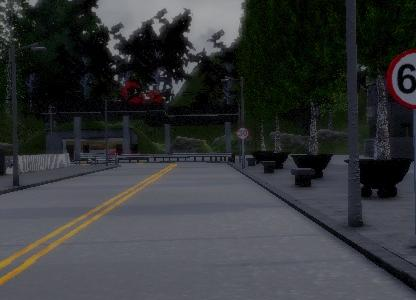Speed_60: (384, 41, 416, 114)
